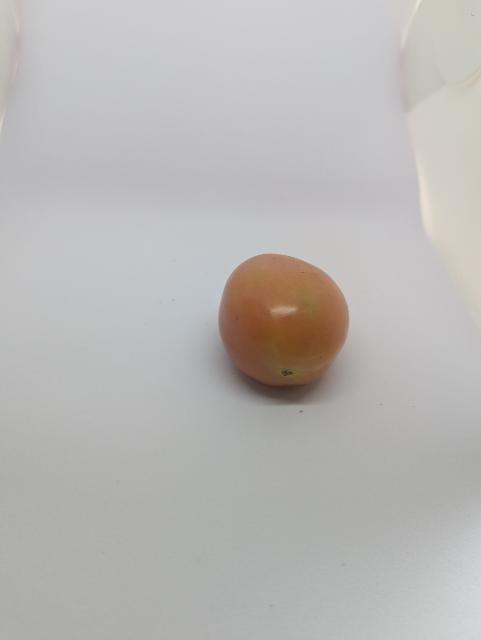turning: (216, 251, 347, 393)
